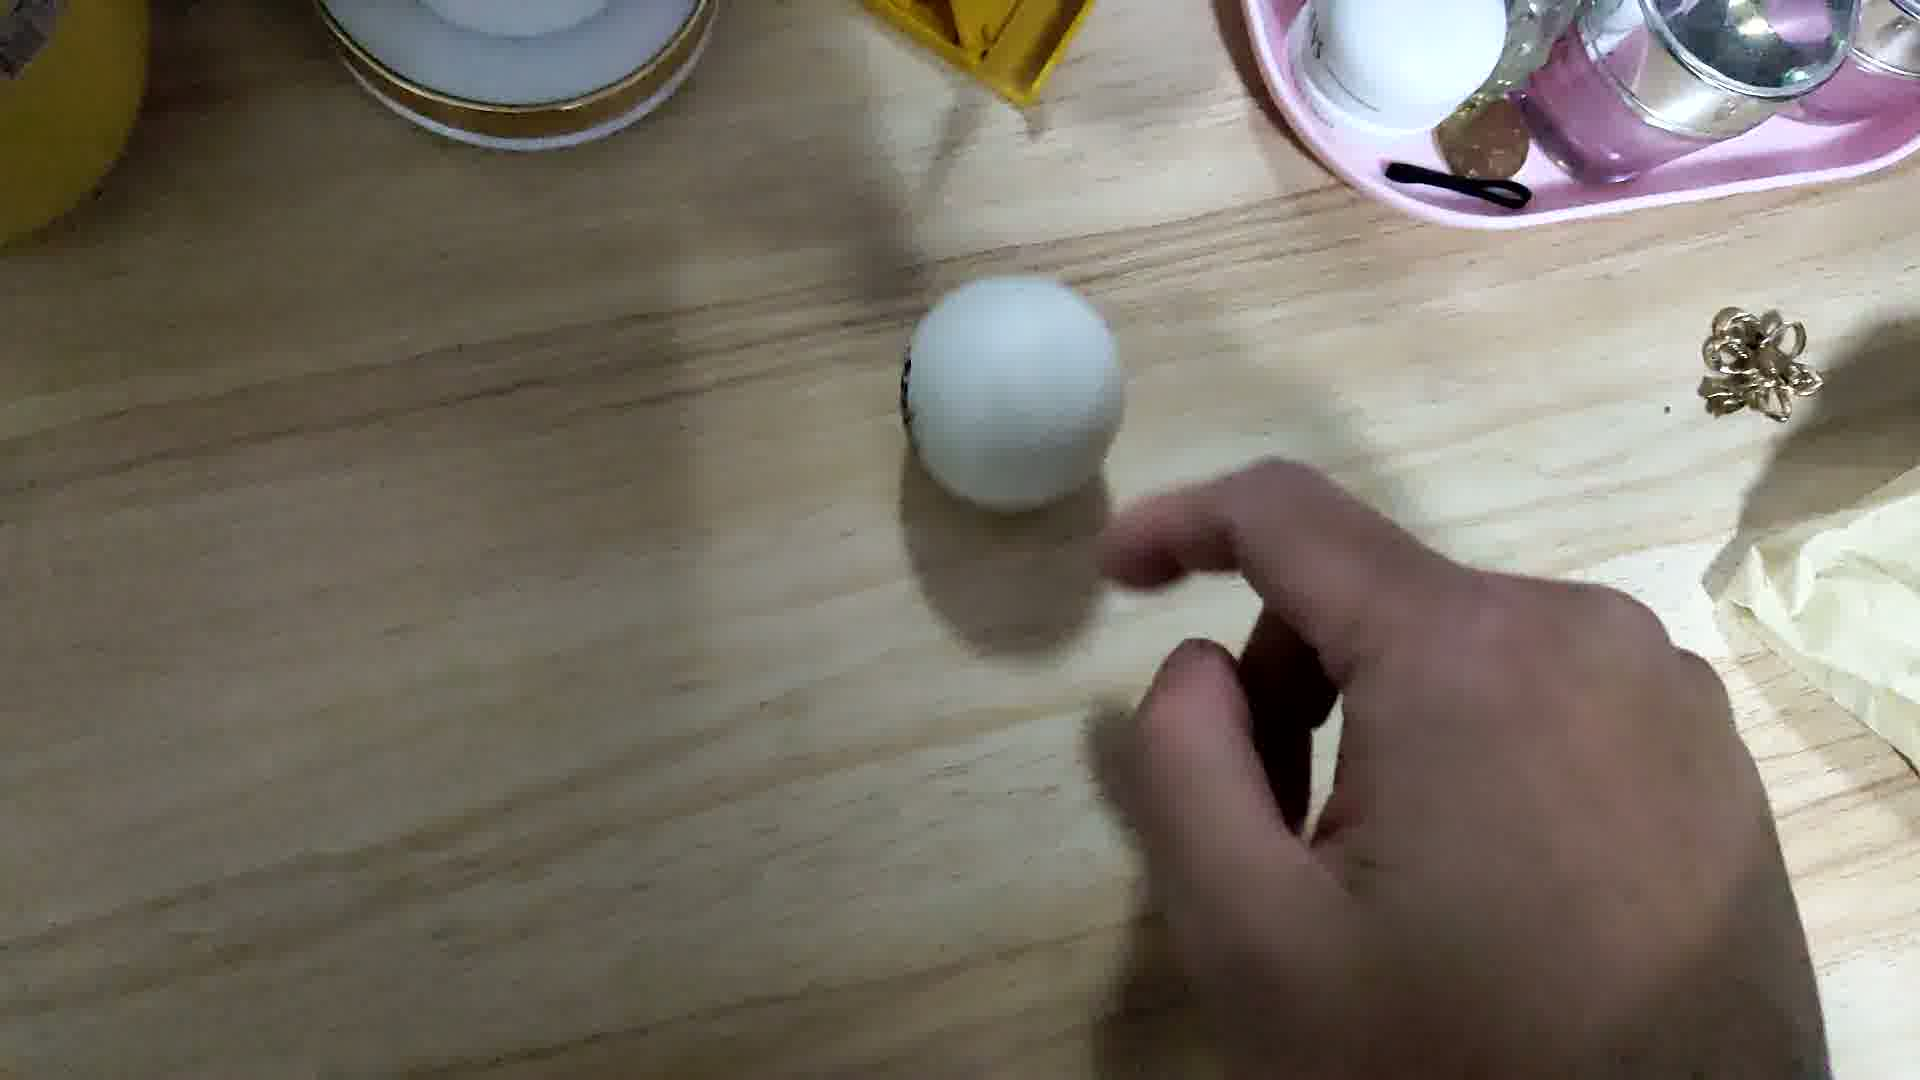Ball: (905, 277, 1127, 513)
